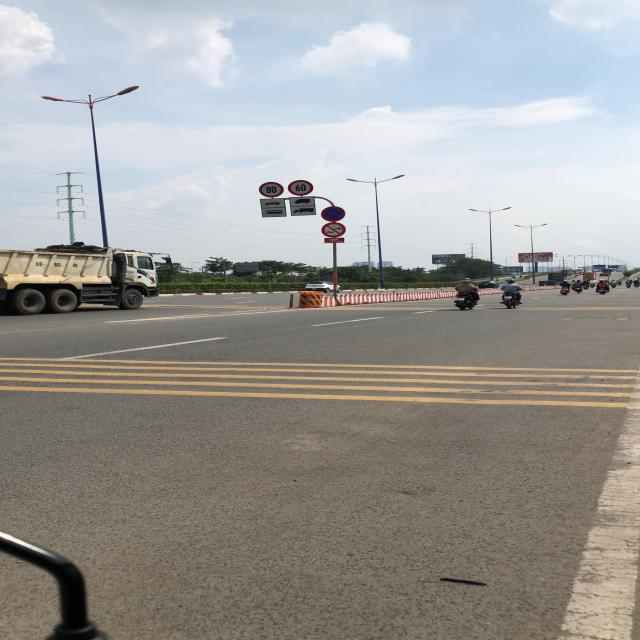Bien bao cam dung xe va do xe: (320, 205, 347, 222)
Bien bao toc do toi da cho phep: (286, 178, 316, 197), (256, 181, 286, 198)
